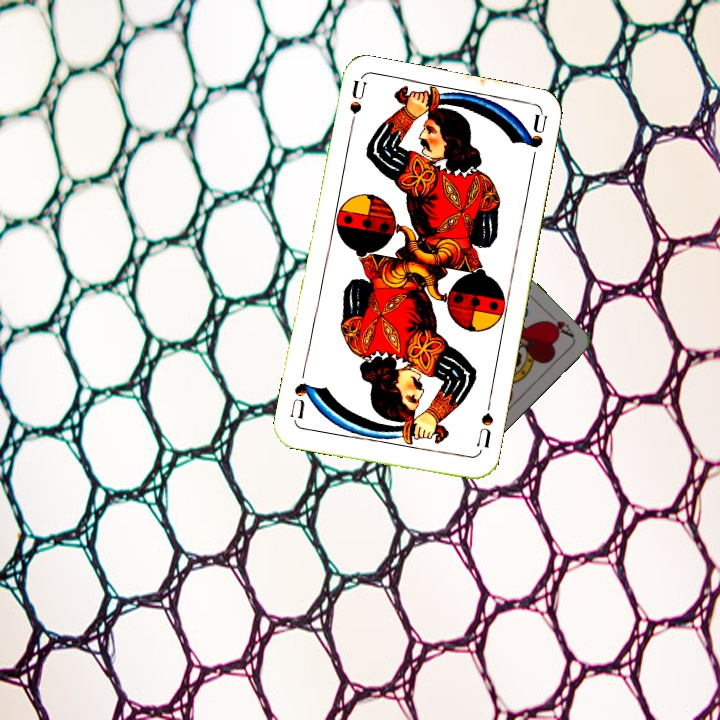HA: (541, 308, 577, 340)
SU: (344, 78, 369, 138), (473, 397, 496, 451)
